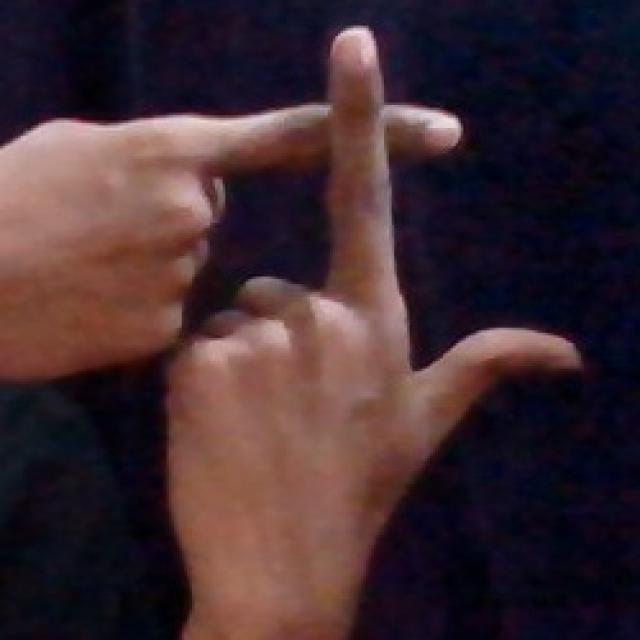Alphabet-J: (37, 26, 590, 536)
